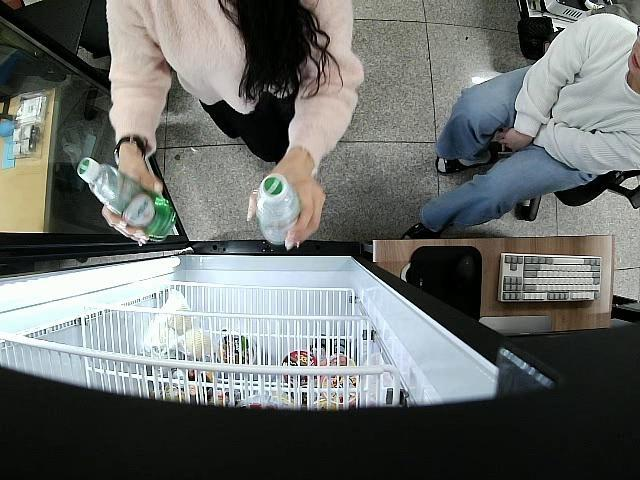18_trevi: (78, 158, 178, 244), (258, 174, 302, 246)
